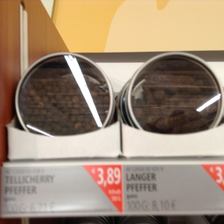spices: (15, 52, 115, 135), (126, 51, 222, 134)
